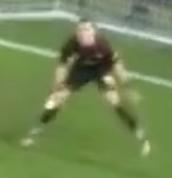goalkeeper: (13, 5, 172, 171)
